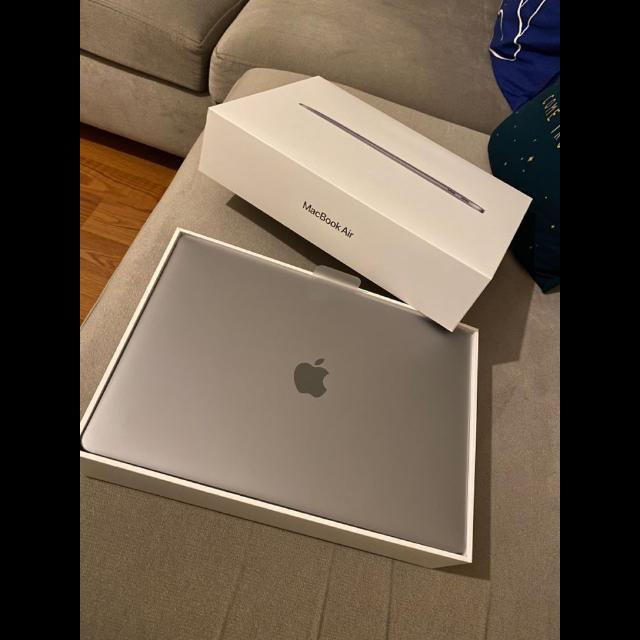laptop: (80, 234, 477, 555)
